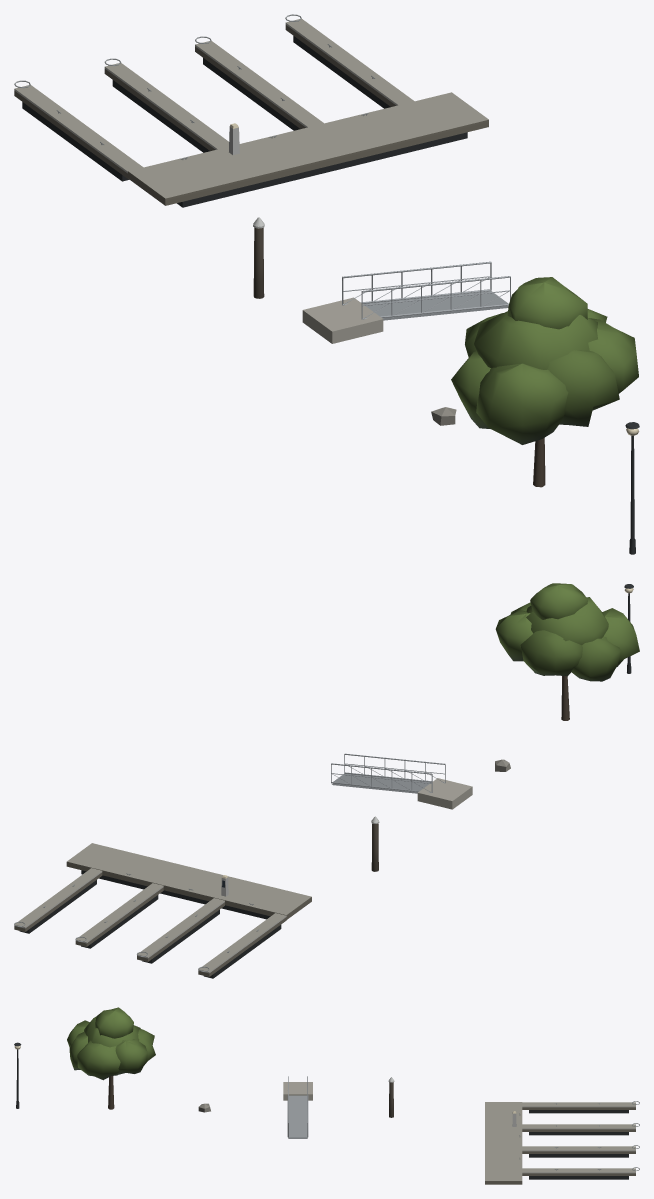
Rendered from dock-parts.glb.
The picture shows the model from 3 angles, top to bottom: view 1: azimuth 30°, elevation 25°; view 2: azimuth 150°, elevation 25°; view 3: azimuth 270°, elevation 25°; orthographic projection. The views are drawn at different scales.
Visible parts, largest first — view 1: dock-structure, tree, gangway, pile; view 2: dock-structure, tree, gangway; view 3: dock-structure, tree, gangway.
Part boxes in pixels (bbox=[...]): dock-structure: bbox=[14, 14, 488, 207]; tree: bbox=[451, 277, 638, 487]; gangway: bbox=[302, 261, 510, 343]; pile: bbox=[253, 217, 264, 298]; dock-structure: bbox=[14, 843, 311, 978]; tree: bbox=[495, 583, 639, 720]; gangway: bbox=[331, 753, 472, 809]; dock-structure: bbox=[485, 1101, 639, 1184]; tree: bbox=[67, 1007, 155, 1109]; gangway: bbox=[283, 1076, 312, 1138].
Size of the model in its own units: 14.97 by 7.62 by 40.2.
